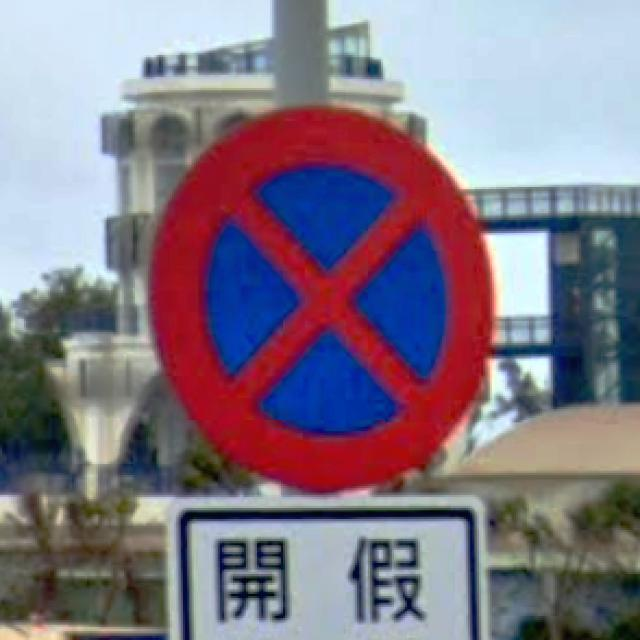nostop: (142, 99, 498, 495)
